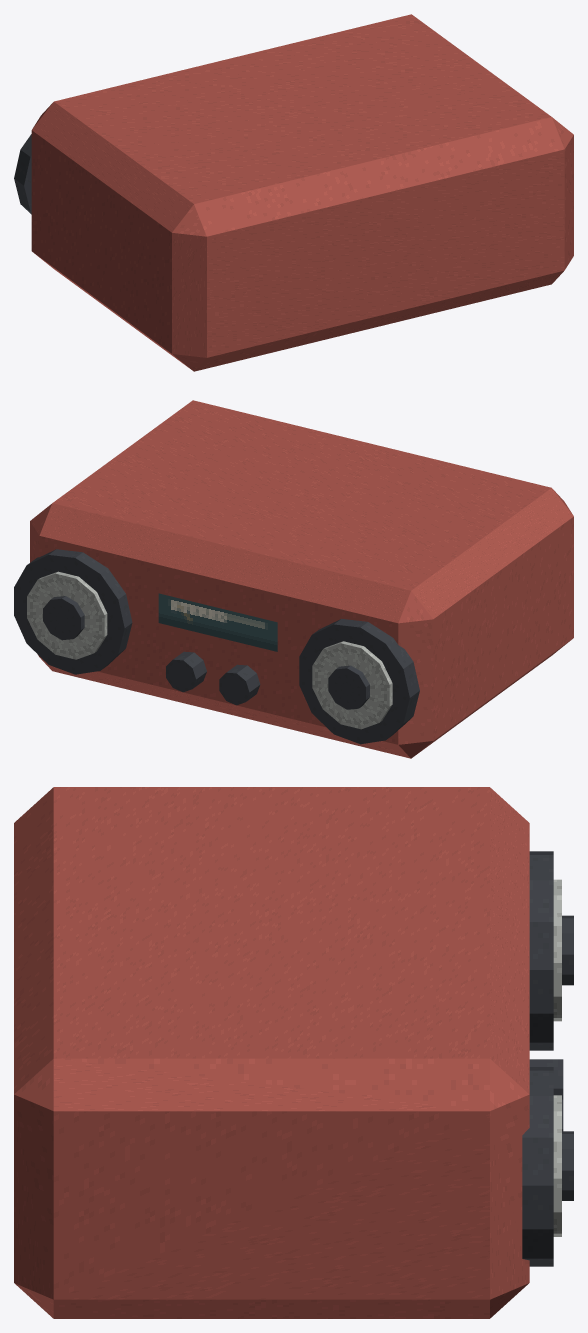
The model's file is stereo.glb.
3 renders of one model, top to bottom at view 1: azimuth 30°, elevation 25°; view 2: azimuth 150°, elevation 25°; view 3: azimuth 270°, elevation 25°, orthographic. The views are drawn at different scales.
Parts seen in each view (by area): view 1: block_enclosure, block_speaker surround; view 2: block_enclosure, block_speaker surround (×2), block_speaker cone (×2), block_receiver display, block_speaker dust cap (×2), block_knob (×2); view 3: block_enclosure, block_speaker surround (×2), block_speaker cone (×2), block_speaker dust cap (×2).
Part boxes in pixels (left/top/right/bottom): block_enclosure: left=31, top=14, right=573, bottom=371; block_speaker surround: left=14, top=134, right=31, bottom=214; block_enclosure: left=30, top=400, right=573, bottom=758; block_speaker surround (×2): left=14, top=549, right=419, bottom=744; block_speaker cone (×2): left=27, top=571, right=392, bottom=729; block_receiver display: left=158, top=593, right=277, bottom=651; block_speaker dust cap (×2): left=43, top=596, right=369, bottom=709; block_knob (×2): left=166, top=651, right=260, bottom=705; block_enclosure: left=14, top=787, right=529, bottom=1318; block_speaker surround (×2): left=522, top=851, right=553, bottom=1266; block_speaker cone (×2): left=553, top=879, right=561, bottom=1236; block_speaker dust cap (×2): left=562, top=915, right=573, bottom=1200.
Bounding box in the file's own units: 0.2854 × 0.1136 × 0.2214.
1 material, 1 textured.
